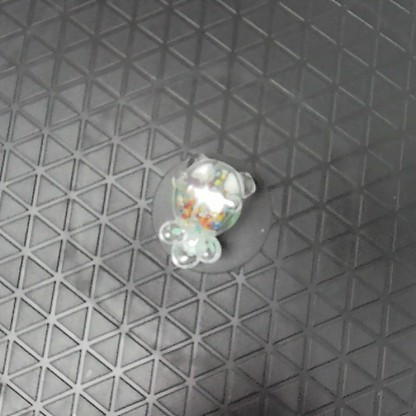whitefish: (160, 144, 257, 269)
